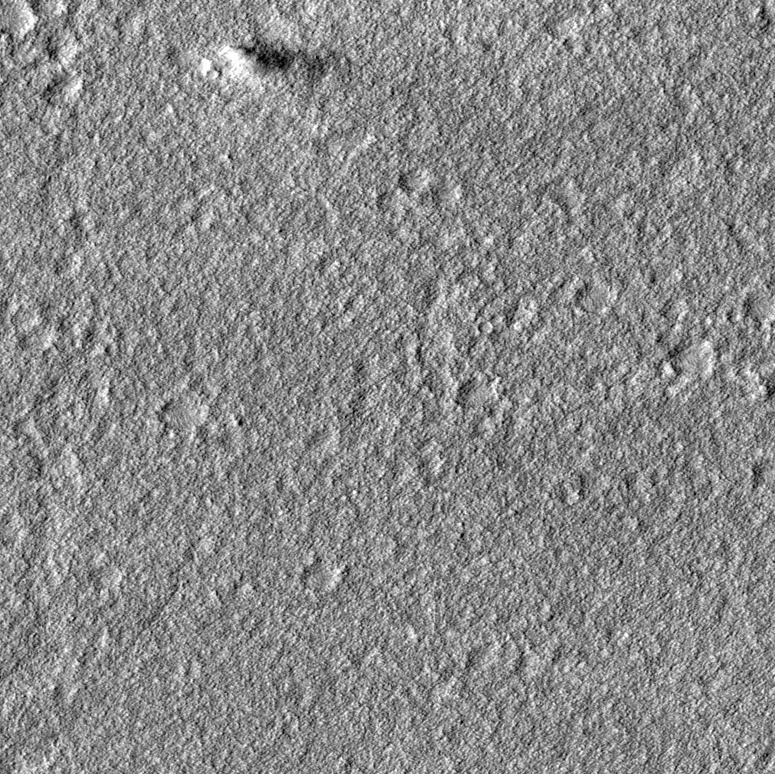dust_devil: (216, 41, 346, 91)
